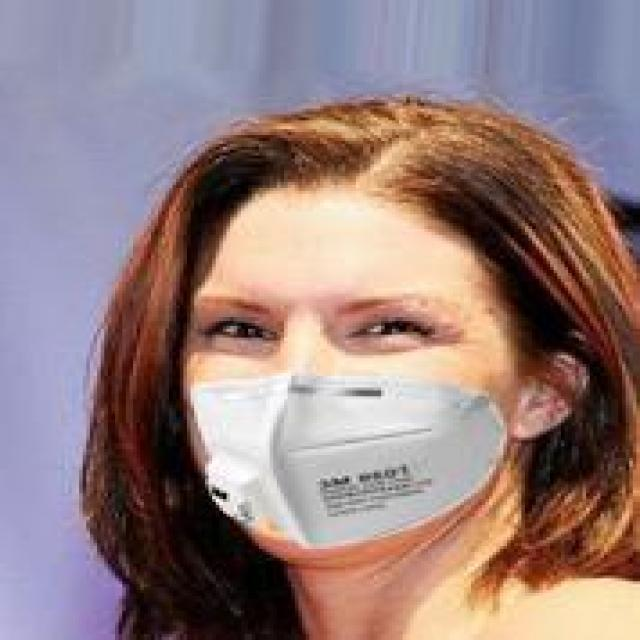mask: (122, 109, 597, 546)
